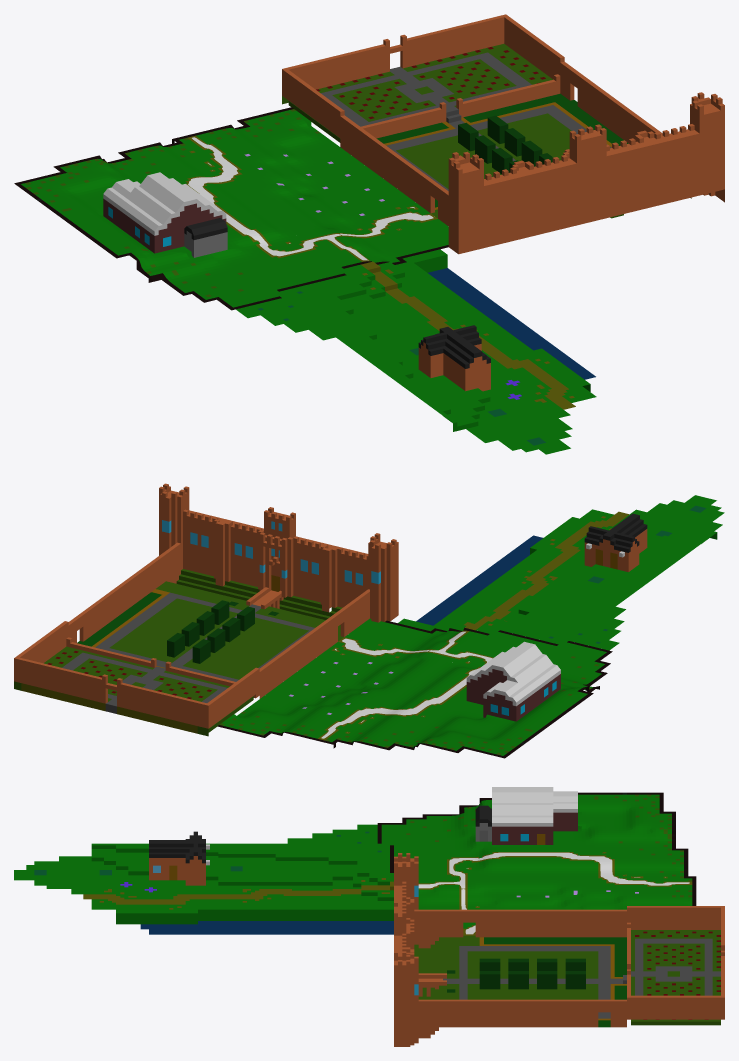
Rendered from MasterEnvironment.fbx.
3 renders of one model, top to bottom at view 1: azimuth 30°, elevation 25°; view 2: azimuth 150°, elevation 25°; view 3: azimuth 270°, elevation 25°, orthographic. The views are drawn at different scales.
Visible parts, largest first — view 1: gardenLawnAndRoseGarden_11_19, field2, fieldTeaRoom_11_19, shed, field2.002; view 2: gardenLawnAndRoseGarden_11_19, field2, fieldTeaRoom_11_19, shed, field2.002; view 3: gardenLawnAndRoseGarden_11_19, fieldTeaRoom_11_19, field2, shed, field2.002.
Boxes of the visible parts, x1,y1,x2,y2 form: gardenLawnAndRoseGarden_11_19: [282, 14, 724, 254]; field2: [14, 107, 448, 310]; fieldTeaRoom_11_19: [236, 249, 596, 454]; shed: [103, 172, 227, 257]; field2.002: [188, 137, 433, 260]; gardenLawnAndRoseGarden_11_19: [14, 483, 398, 736]; field2: [217, 618, 612, 758]; fieldTeaRoom_11_19: [398, 495, 724, 650]; shed: [466, 641, 560, 721]; field2.002: [321, 631, 492, 738]; gardenLawnAndRoseGarden_11_19: [394, 853, 724, 1046]; fieldTeaRoom_11_19: [14, 824, 393, 934]; field2: [377, 792, 696, 935]; shed: [475, 787, 577, 844]; field2.002: [418, 852, 689, 934].
Bounding box in the file's own units: 1300 × 230 × 1740.
